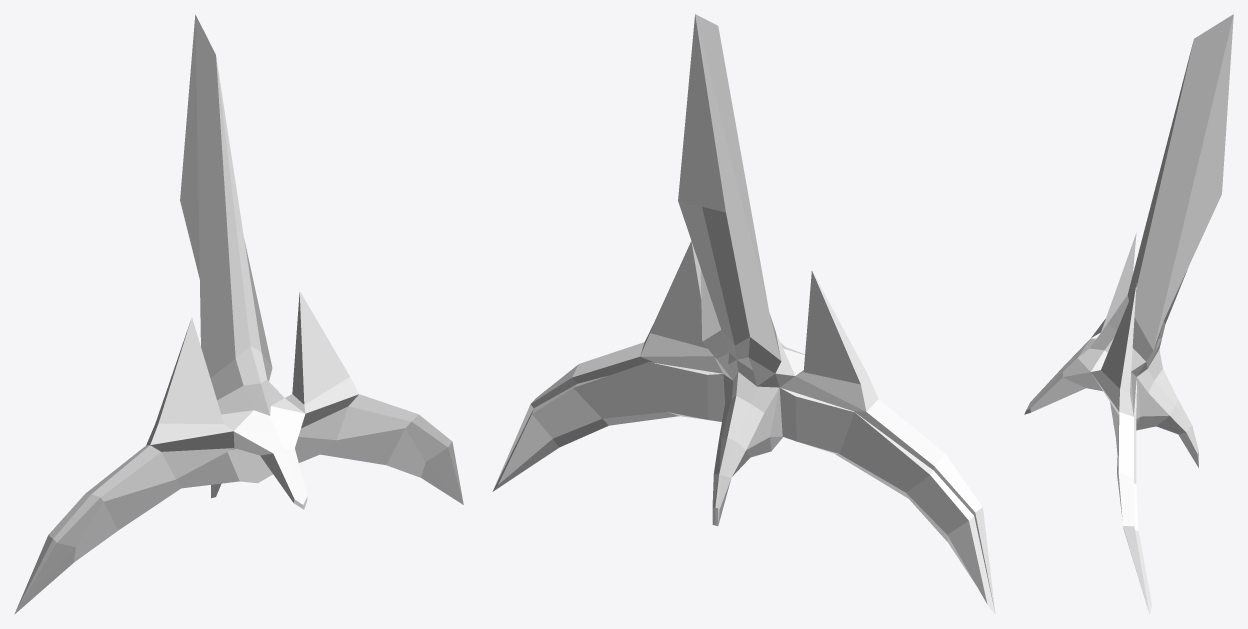
File: head_49.fbx
3 renders of one model, left to right at view 1: azimuth 30°, elevation 25°; view 2: azimuth 150°, elevation 25°; view 3: azimuth 270°, elevation 25°, orthographic. The views are drawn at different scales.
Parts seen in each view (by area): view 1: Cube.180; view 2: Cube.180; view 3: Cube.180.
Part boxes in pixels (x1,y1,x2,y2): Cube.180: (14, 14, 463, 614); Cube.180: (492, 14, 995, 614); Cube.180: (1024, 14, 1233, 614).
Bounding box in the file's own units: 216 × 236 × 90.58.
